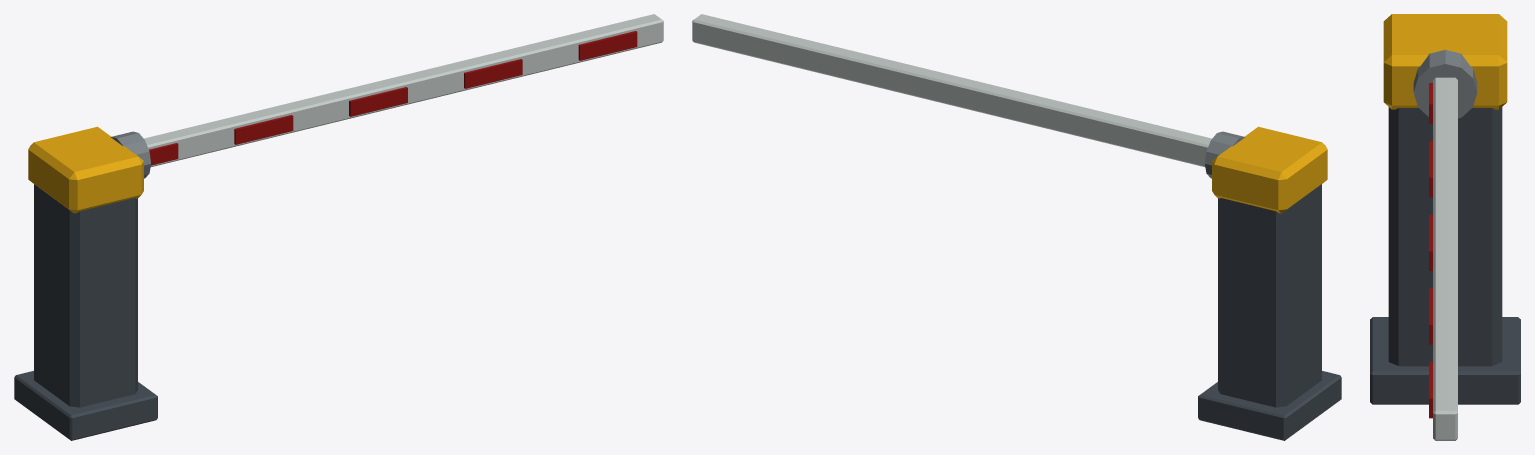
Rendered from BarrierGateClosed.fbx.
3 views of the same model, side by side, from view 1: azimuth 30°, elevation 25°; view 2: azimuth 150°, elevation 25°; view 3: azimuth 270°, elevation 25° (orthographic). The views are drawn at different scales.
Visible parts, largest first — view 1: BarrierGateClosed; view 2: BarrierGateClosed; view 3: BarrierGateClosed.
Boxes of the visible parts, x1,y1,x2,y2 form: BarrierGateClosed: [14, 14, 663, 440]; BarrierGateClosed: [692, 14, 1341, 440]; BarrierGateClosed: [1370, 14, 1520, 440].
Size of the model in its own units: 280 by 114 by 45.
1 material, 1 textured.
